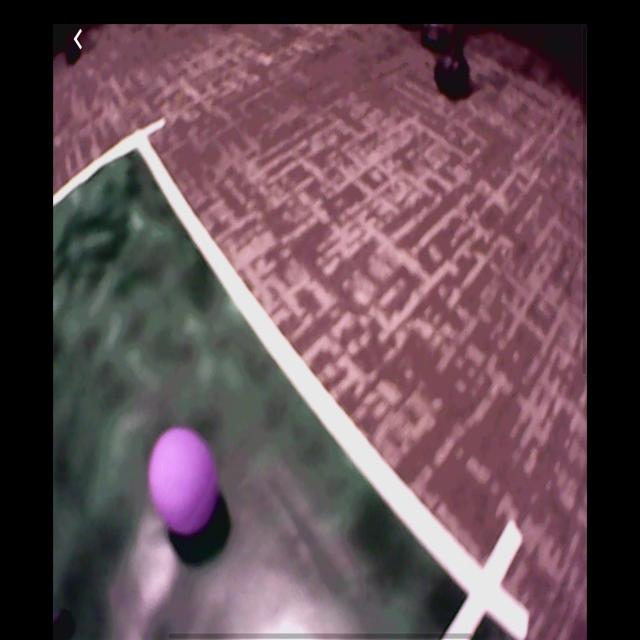ball: (151, 424, 215, 533)
